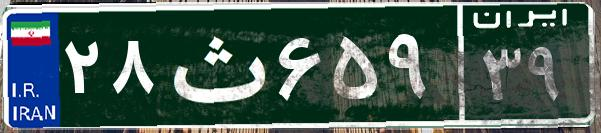2: (57, 26, 110, 107)
3: (475, 38, 525, 113)
5: (330, 28, 385, 110)
6: (273, 28, 330, 110)
8: (110, 28, 158, 105)
9: (385, 28, 445, 110), (525, 38, 570, 115)
ث: (158, 15, 273, 115)
